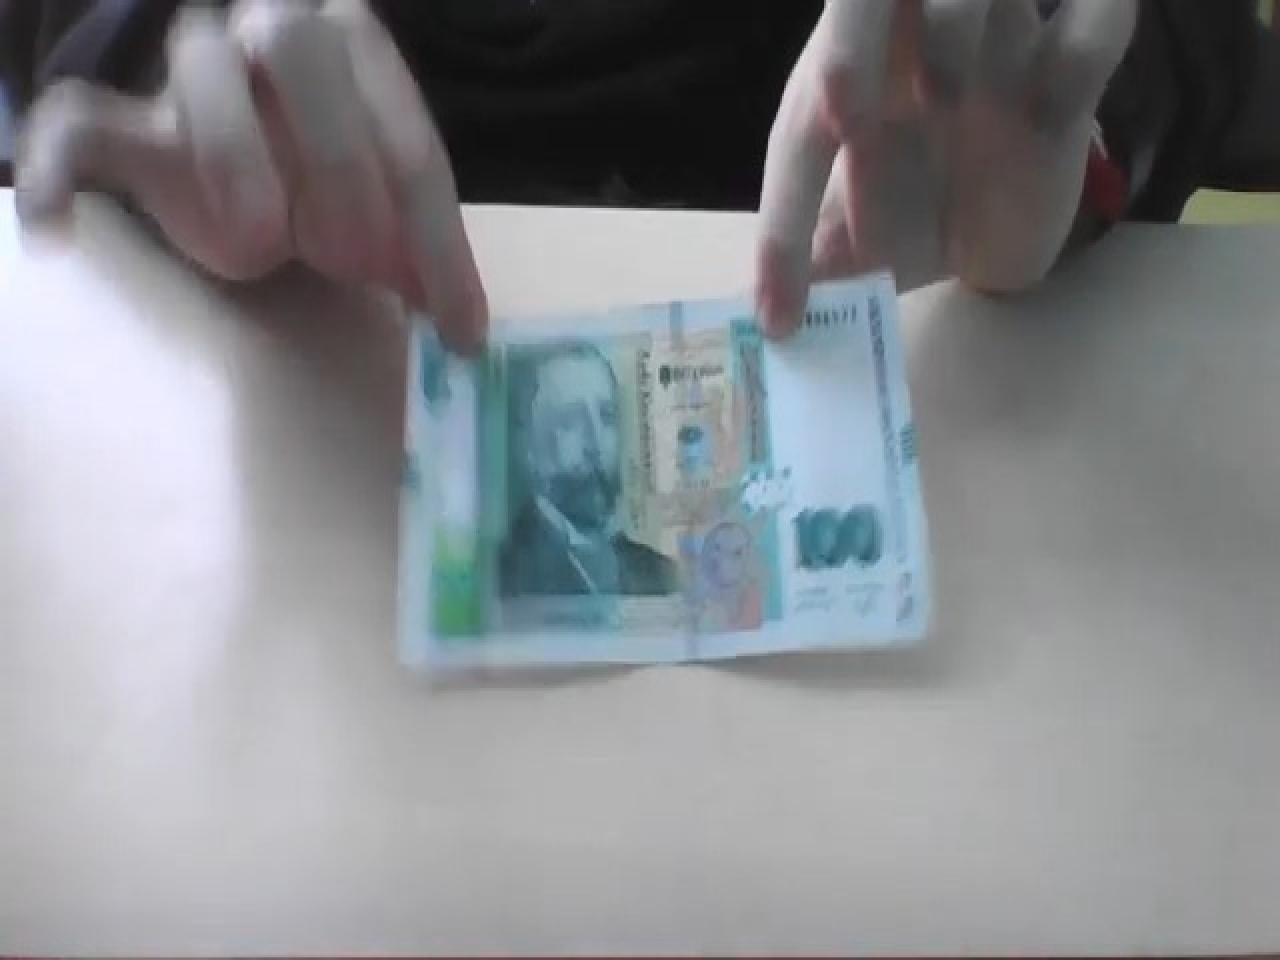100leva: (394, 266, 932, 675), (490, 333, 682, 627)
